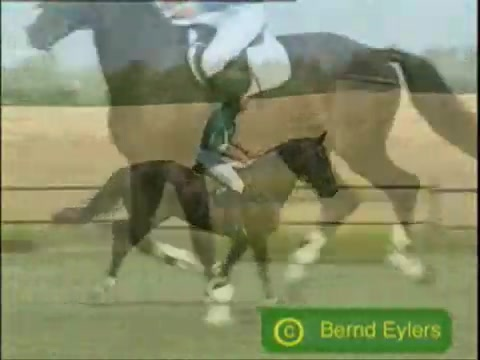horse: (53, 128, 343, 306)
